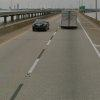Car: (27, 16, 52, 36)
